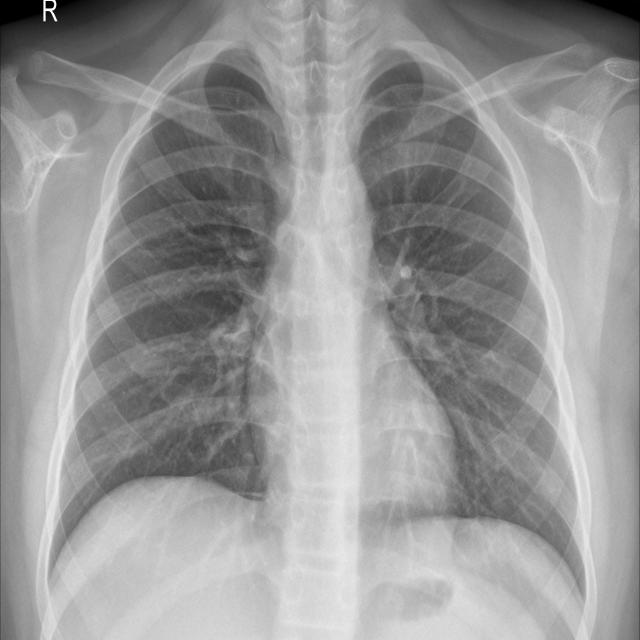no-pneumonia: (41, 49, 294, 595), (352, 53, 589, 595)
